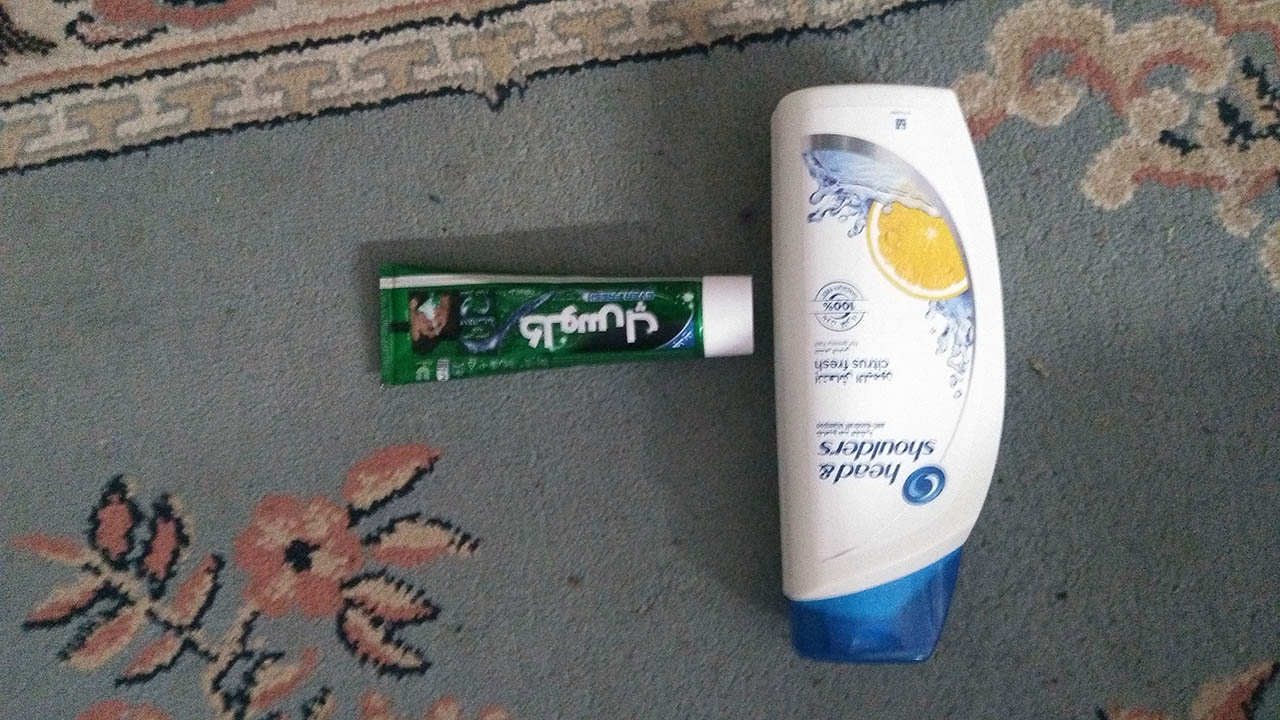Toothpaste-Closeup 3.04$: (371, 257, 755, 379)
shampoo-Lemon 3.5$: (765, 83, 1011, 670)
